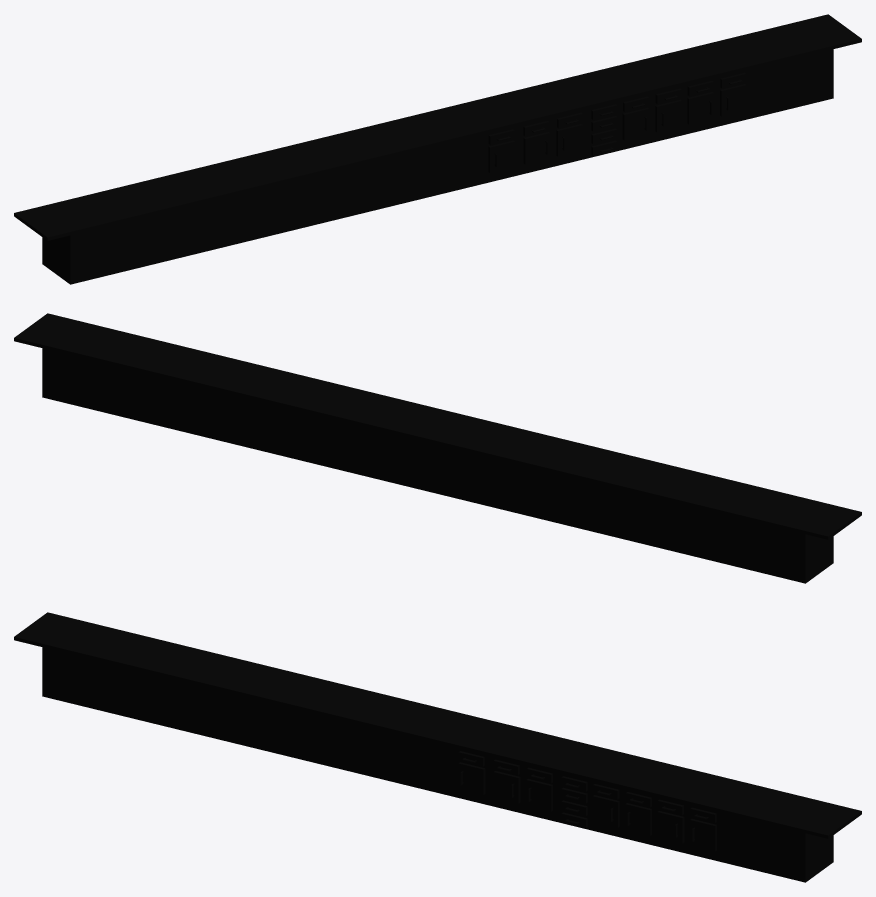
The model's file is BackgroundCounter.fbx.
3 renders of one model, top to bottom at view 1: azimuth 30°, elevation 25°; view 2: azimuth 150°, elevation 25°; view 3: azimuth 330°, elevation 25°, orthographic.
Parts seen in each view (by area): view 1: Counter.002; view 2: Counter.002; view 3: Counter.002.
Part boxes in pixels (bbox=[...]): Counter.002: bbox=[14, 14, 861, 284]; Counter.002: bbox=[14, 313, 861, 583]; Counter.002: bbox=[14, 612, 861, 882].
Bounding box in the file's own units: 1387 × 103 × 90.01.
1 material, 1 textured.
